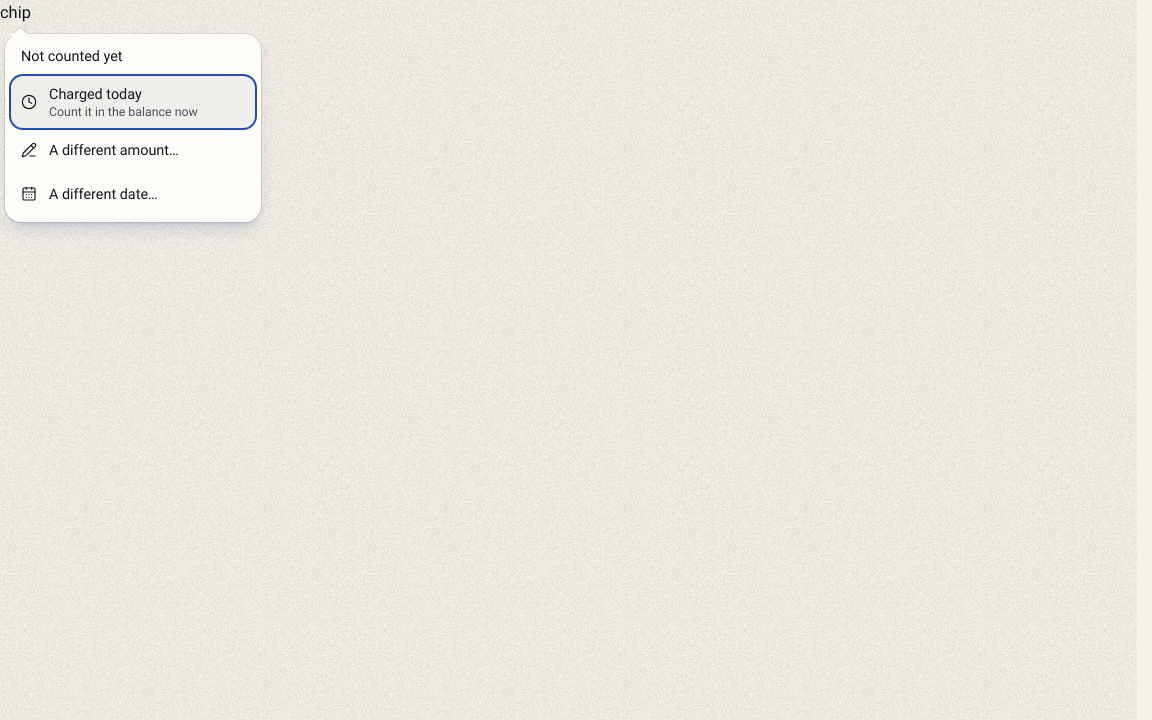
Scenario: ProjectedPopout › stops the calendar at the feed’s horizon, the last month › reaches
The width and height of the screenshot is (1152, 720).
Click the button "A different date…".
click(133, 194)  # box top-left (11, 172), bottom-right (255, 216)
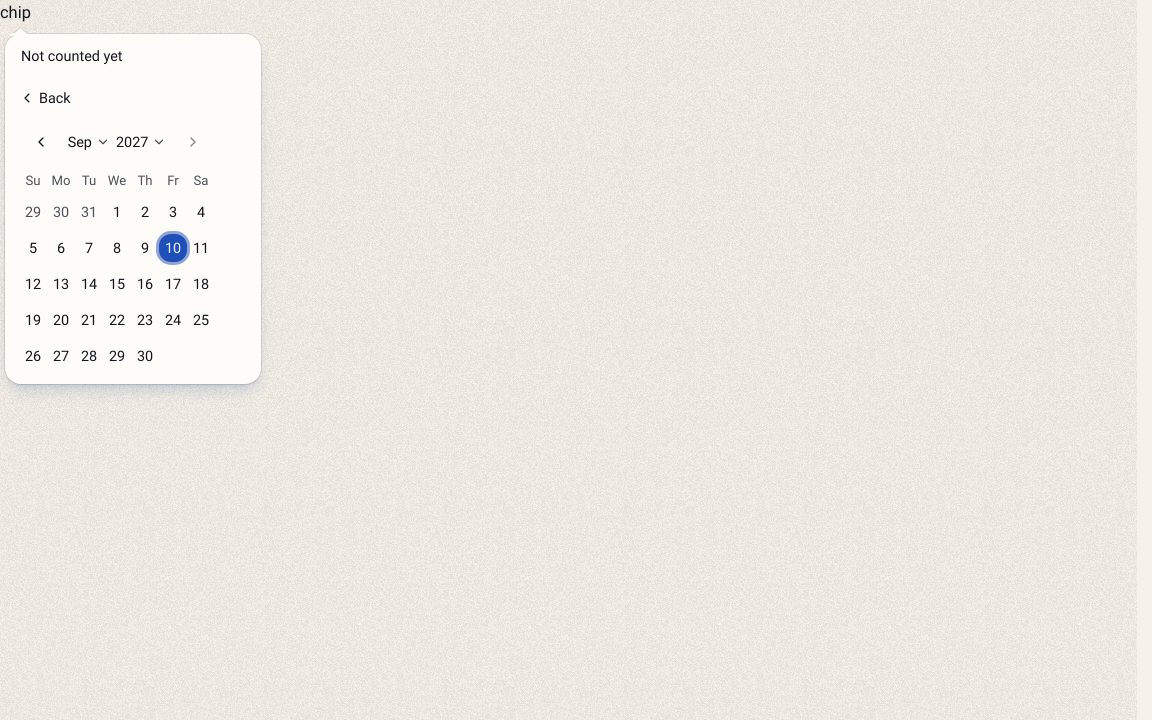
Now the button named "September 30th, 2027" is enabled, box top-left (131, 342), bottom-right (159, 370)
